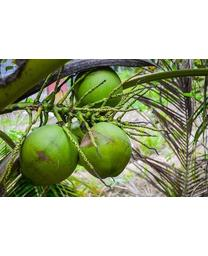coconut: (15, 125, 80, 184), (76, 125, 133, 180), (72, 69, 124, 114)
